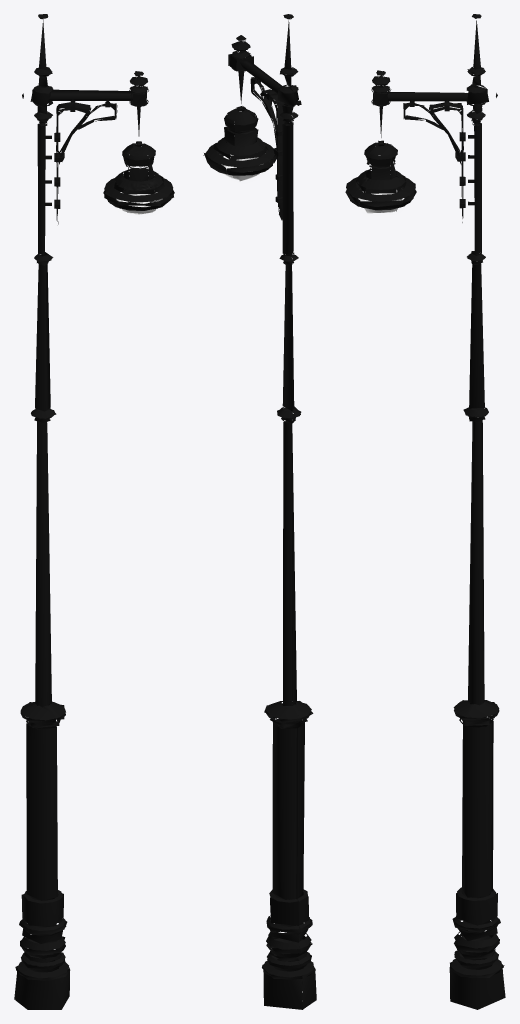
File: lamp.glb
The picture shows the model from 3 angles, left to right: view 1: azimuth 90°, elevation 25°; view 2: azimuth 210°, elevation 25°; view 3: azimuth 270°, elevation 25°; orthographic projection.
Visible parts, largest first — view 1: pCylinder14_light__0; view 2: pCylinder14_light__0; view 3: pCylinder14_light__0.
Boxes of the visible parts, x1,y1,x2,y2 form: pCylinder14_light__0: [14, 14, 174, 1009]; pCylinder14_light__0: [203, 14, 316, 1009]; pCylinder14_light__0: [345, 14, 505, 1009].
Bounding box in the file's own units: 3.2 × 48.79 × 7.2.
Materials: 2 (1 with a texture image).
